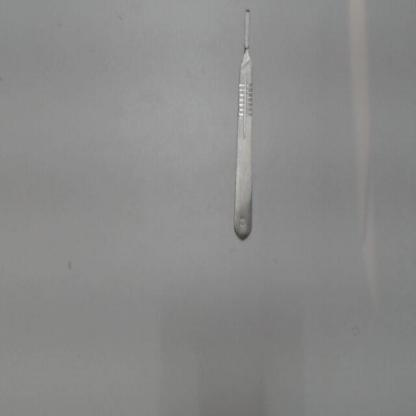No.4 BP Handle: (227, 4, 255, 248)
